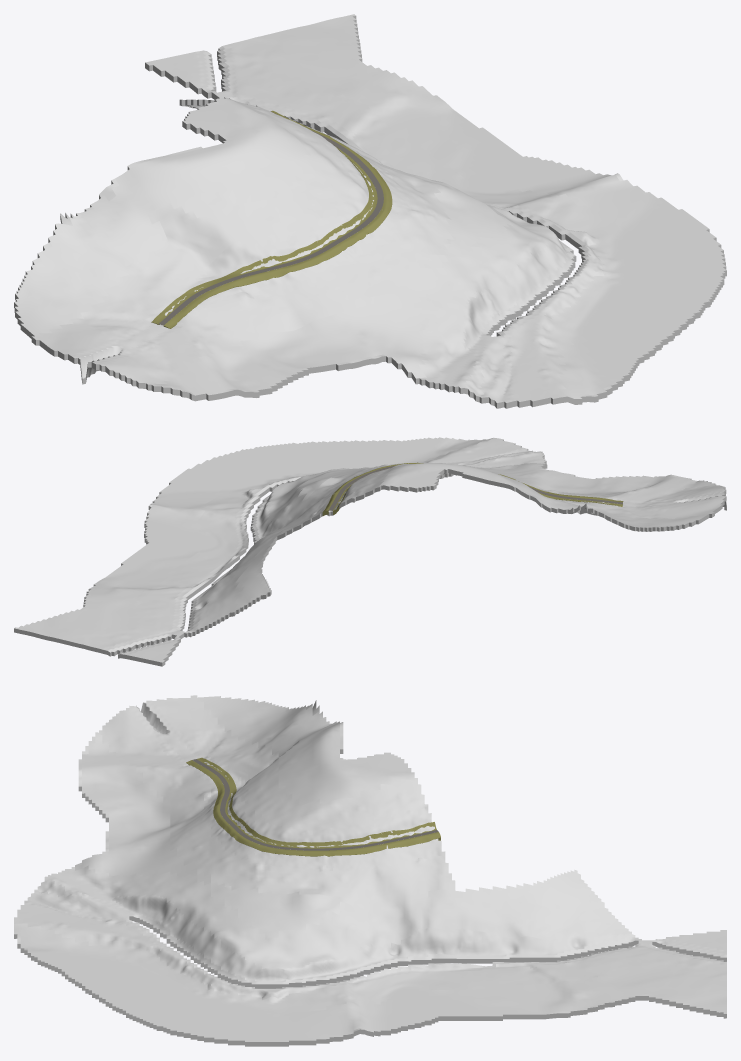
Rendered from conz_107.glb.
3 renders of one model, top to bottom at view 1: azimuth 30°, elevation 25°; view 2: azimuth 150°, elevation 25°; view 3: azimuth 270°, elevation 25°, orthographic. The views are drawn at different scales.
Parts seen in each view (by area): view 1: terrain107, verge107L, verge107R, road107; view 2: terrain107, verge107L, road107; view 3: terrain107, verge107L, verge107R, road107.
Part boxes in pixels (x1,y1,x2,y2): terrain107: [14, 14, 726, 408]; verge107L: [163, 110, 392, 328]; verge107R: [151, 146, 377, 324]; road107: [159, 111, 383, 325]; terrain107: [14, 437, 726, 666]; verge107L: [322, 462, 623, 515]; road107: [328, 465, 622, 510]; terrain107: [14, 695, 726, 1046]; verge107L: [186, 760, 440, 856]; verge107R: [197, 757, 436, 850]; road107: [192, 759, 438, 850].
Size of the model in its own units: 386 by 80.79 by 420.
